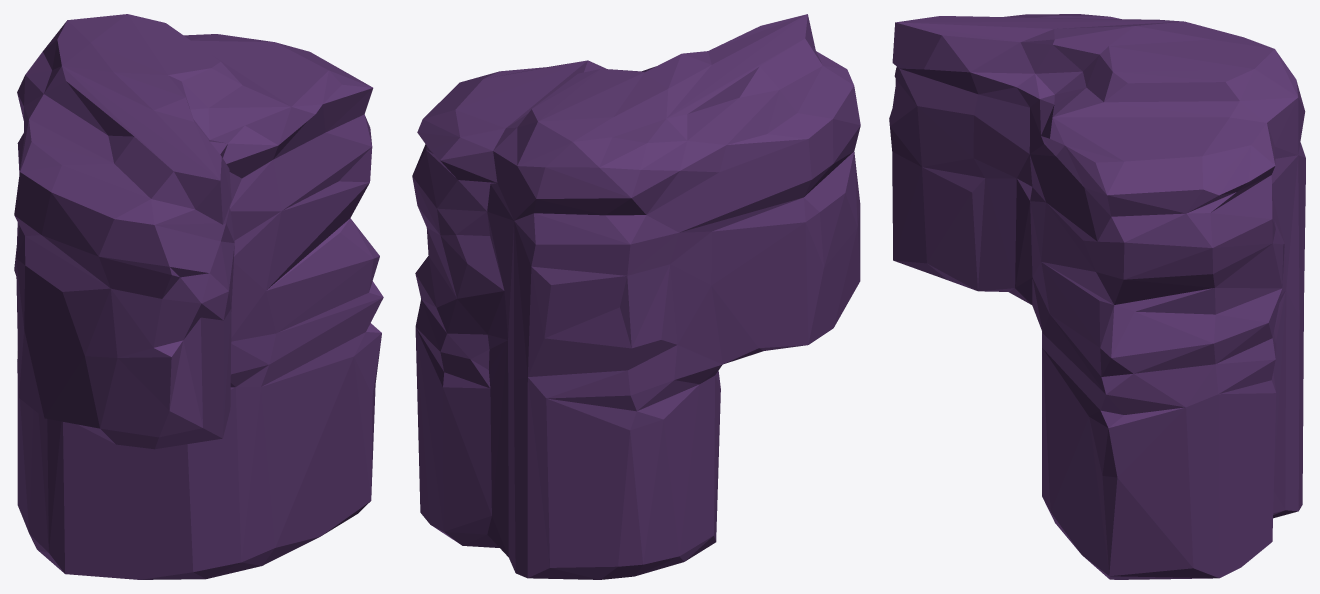
Rendered from Rock_4.fbx.
3 renders of one model, left to right at view 1: azimuth 30°, elevation 25°; view 2: azimuth 150°, elevation 25°; view 3: azimuth 270°, elevation 25°, orthographic. The views are drawn at different scales.
Visible parts, largest first — view 1: rock_model.025; view 2: rock_model.025; view 3: rock_model.025.
Part boxes in pixels (x1=…): rock_model.025: x1=14, y1=14, x2=383, y2=579; rock_model.025: x1=412, y1=14, x2=860, y2=579; rock_model.025: x1=889, y1=14, x2=1305, y2=579.
Bounding box in the file's own units: 200 × 242 × 203.
